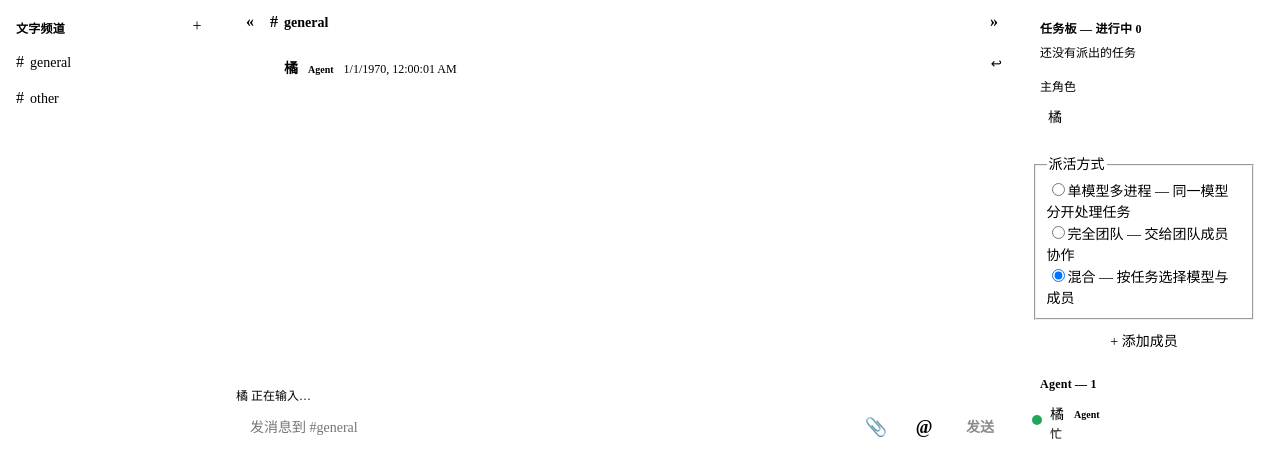
it: channels page › keeps the draft until acknowledgement, blocks duplicate sends and respects IME and Shift+Enter
Type "@橘 你好" into the dropdown at (542, 427), box [236, 407, 848, 448]
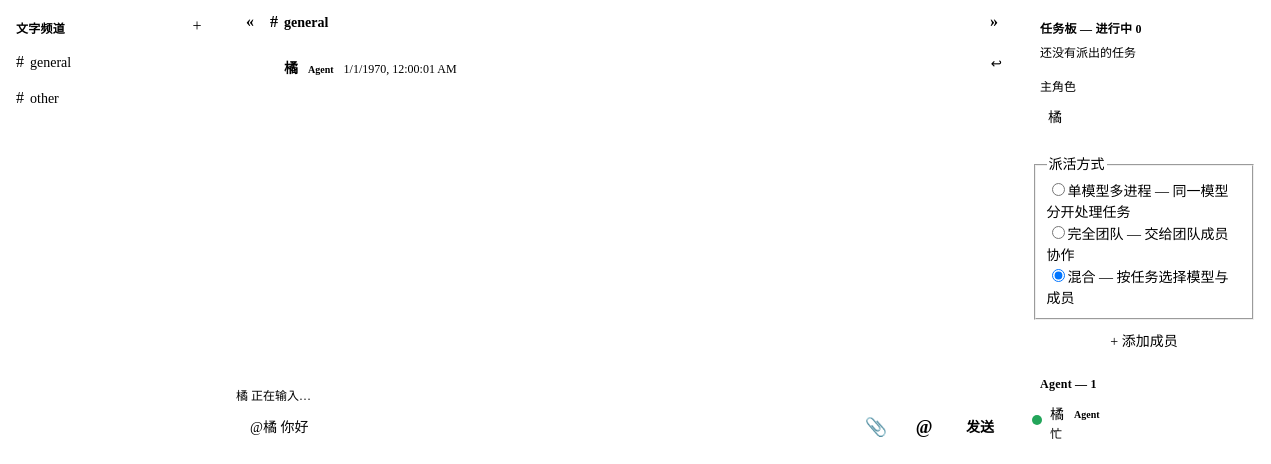
Press Enter in the dropdown, box [236, 407, 848, 448]
Press Enter in the dropdown, box [236, 407, 848, 448]
Press Enter in the dropdown, box [236, 407, 848, 448]
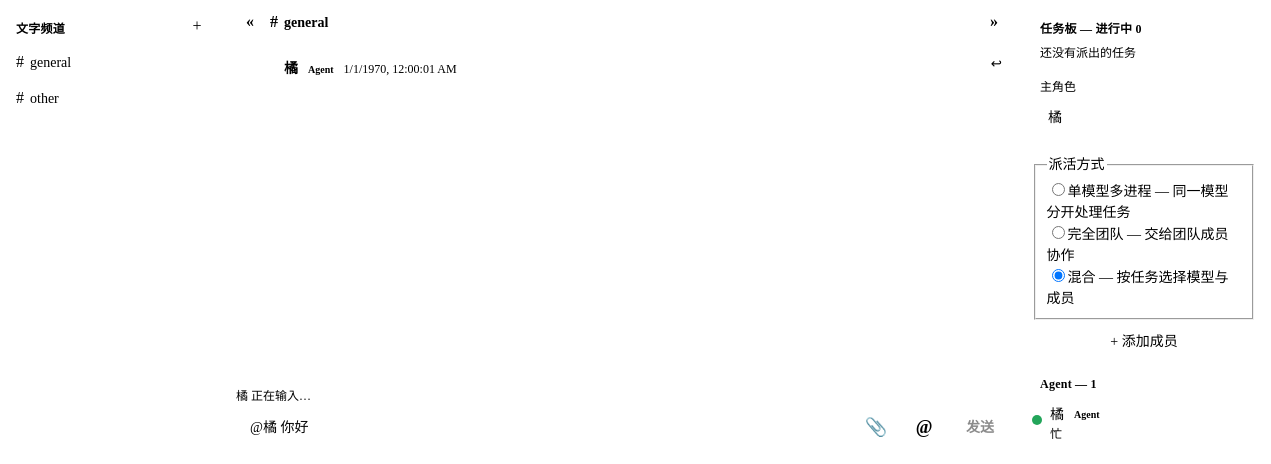
Press Enter in the dropdown, box [236, 407, 848, 448]
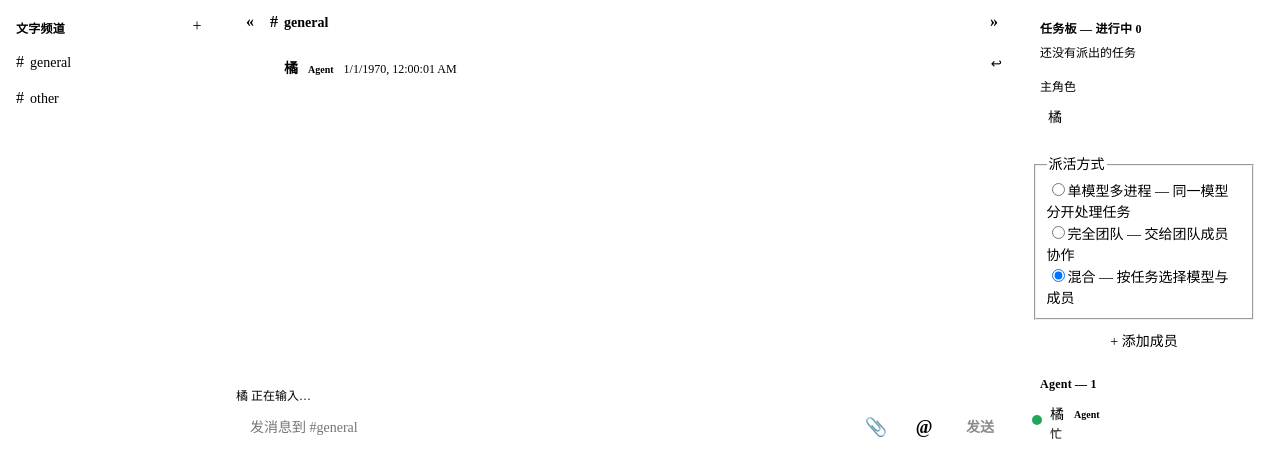
Now the dropdown is empty, box [236, 407, 848, 448]
Now the dropdown is enabled, box [236, 407, 848, 448]
